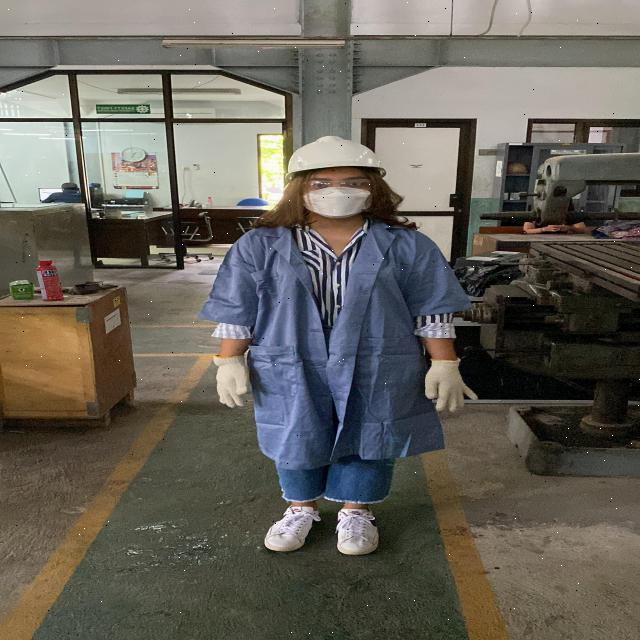Helmet: (268, 135, 374, 179)
